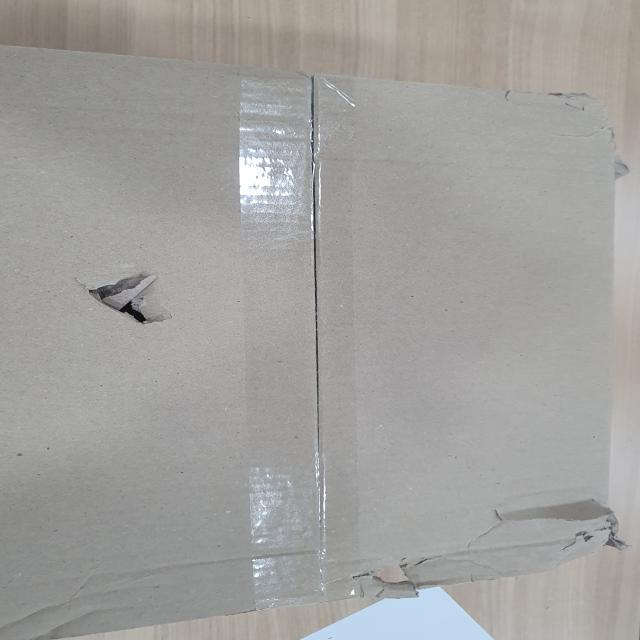hole: (481, 499, 632, 565), (68, 269, 174, 335)
